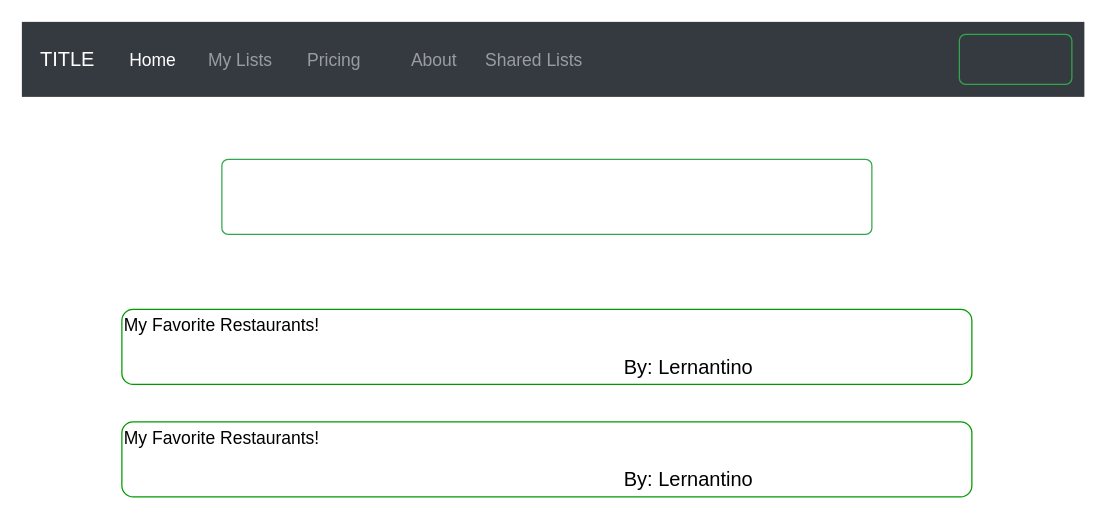
The diagram is 1105 pixels wide and 519 high, and some of its shapes have lost their labels. The shapes that lost their labels are listed below. From the top down, each one's centre as x and y in pixels, then its label:
At pixel 1015 58: "Login".
At pixel 546 196: "Add a List !".
